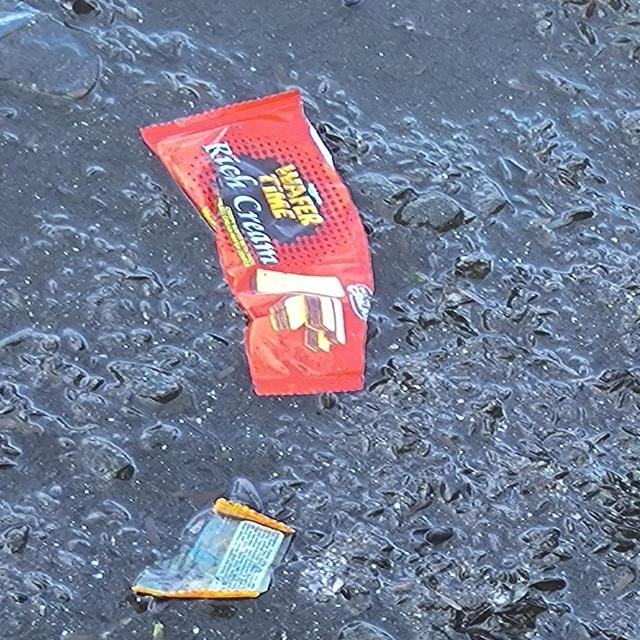plastic_waste: (142, 88, 376, 399), (132, 498, 298, 602)
